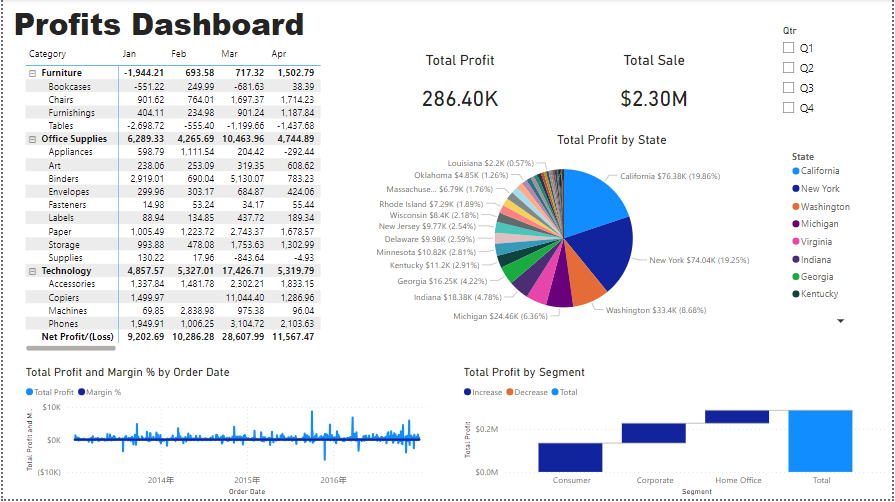

What the dashboard file says about the page in this screenshot:
{"tool":"powerbi","page":{"name":"Profit by Category","canvas":[1280,720],"ordinal":1},"visuals":[{"type":"textbox","box":[10.1,0,463.7,76.3],"z":0},{"type":"pivotTable","fields":{"Rows":["Orders.Category","Orders.Sub-Category"],"Values":["Sum(Orders.Profit)"],"Columns":["Dates.Month"]},"box":[27.4,63.4,434.9,449.3],"z":1000},{"type":"pieChart","fields":{"Y":["Orders.Total Profit"],"Category":["Orders.State"]},"box":[473.8,191.5,806.4,285.1],"z":2000},{"type":"card","title":"Total Profit","fields":{"Values":["Sum(Orders.Profit)"]},"box":[518.4,76.3,279.4,105.1],"z":3000},{"type":"card","title":"Total Sale","fields":{"Values":["Orders.Total Sale"]},"box":[797.8,76.3,279.4,105.1],"z":4000},{"type":"areaChart","fields":{"Y":["Orders.Total Profit","Orders.Margin %"],"Category":["Orders.Order Date"]},"box":[27.4,527,596.2,193],"z":5000},{"type":"waterfallChart","fields":{"Y":["Orders.Total Profit"],"Category":["Orders.Segment"]},"box":[658.1,527,622.1,193],"z":6000},{"type":"slicer","fields":{"Values":["Dates.Qtr"]},"box":[1110.2,31.7,142.6,149.8],"z":7000}]}

Visuals, with their boxes in screenshot pixels (x1, y1, x2, y2), scaled from the page's 1280x720 canvas onto the 895x502 screenshot:
textbox: {"left": 7, "top": 0, "right": 331, "bottom": 53}
pivotTable - Orders.Category x Orders.Sub-Category: {"left": 19, "top": 44, "right": 323, "bottom": 357}
pieChart - Orders.Total Profit x Orders.State: {"left": 331, "top": 134, "right": 894, "bottom": 332}
"Total Profit" card: {"left": 362, "top": 53, "right": 558, "bottom": 126}
"Total Sale" card: {"left": 558, "top": 53, "right": 753, "bottom": 126}
areaChart - Orders.Total Profit x Orders.Margin %: {"left": 19, "top": 367, "right": 436, "bottom": 501}
waterfallChart - Orders.Total Profit x Orders.Segment: {"left": 460, "top": 367, "right": 894, "bottom": 501}
slicer - Dates.Qtr: {"left": 776, "top": 22, "right": 876, "bottom": 127}
